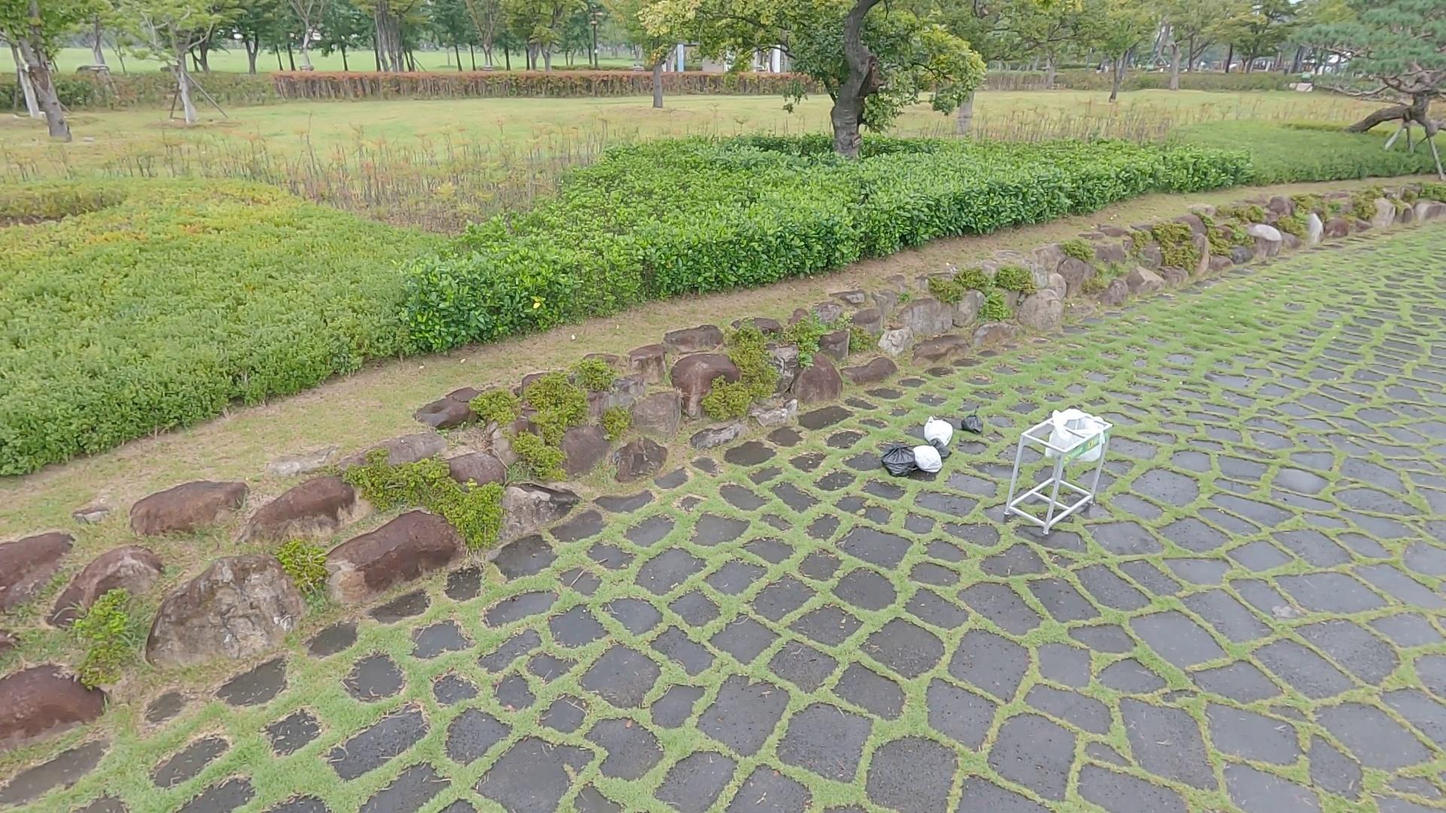trash: (901, 441, 951, 482), (879, 442, 919, 485), (954, 407, 992, 438), (923, 414, 955, 448)
